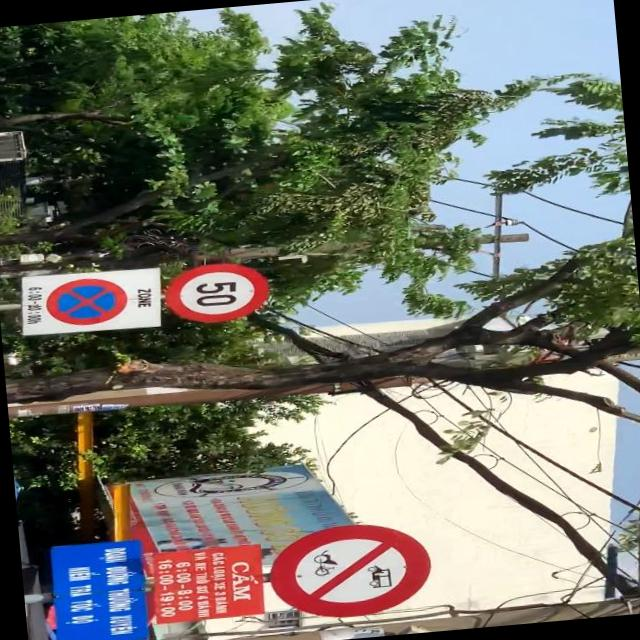P-127: (162, 262, 270, 324)
P-130: (46, 275, 126, 326)
